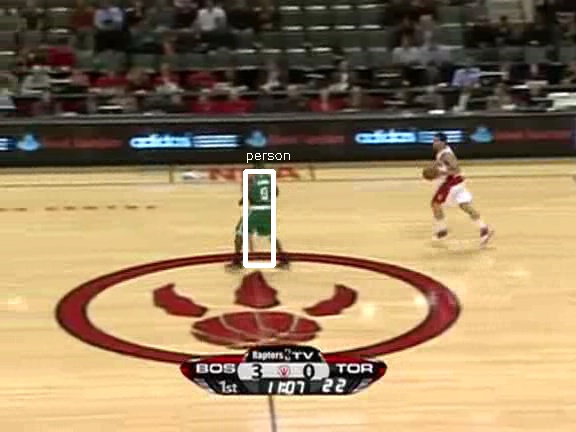person: (244, 163, 278, 244), (243, 163, 277, 244), (245, 163, 279, 244), (244, 162, 278, 243), (244, 164, 278, 245)
target_negative: (138, 78, 487, 381), (321, 209, 514, 284), (472, 254, 576, 389), (342, 167, 456, 287), (44, 336, 146, 380), (447, 28, 467, 218)
